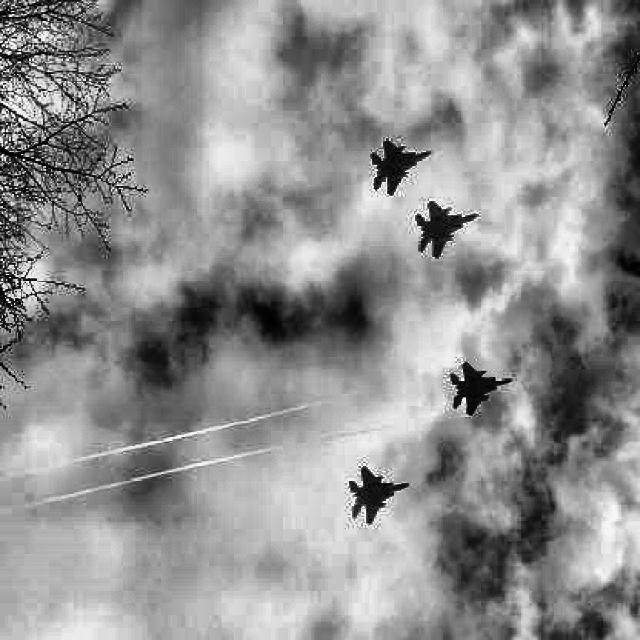F15: (348, 466, 410, 525), (416, 200, 478, 258), (371, 138, 432, 196), (450, 361, 513, 416)
